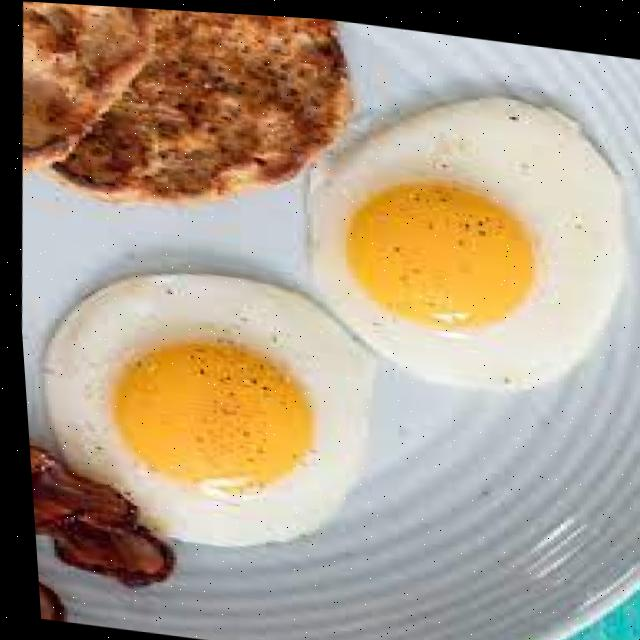Bacon: (23, 445, 165, 585)
Bread: (50, 7, 344, 199), (20, 1, 147, 164)
Egg: (38, 271, 393, 543), (305, 90, 621, 385)
